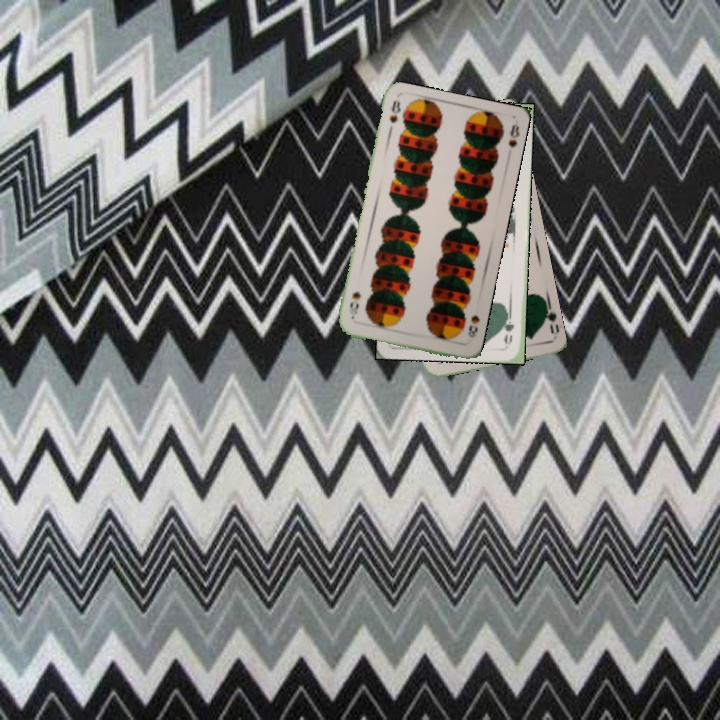GO: (539, 298, 558, 336), (501, 307, 516, 347)
S8: (384, 96, 403, 136), (464, 311, 482, 340)
